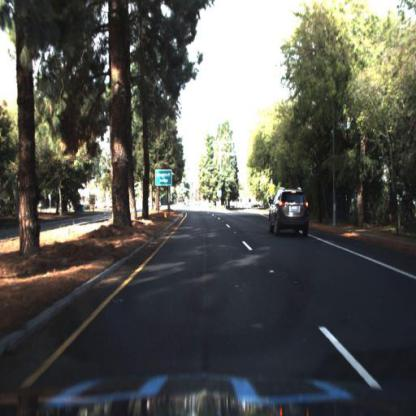car: (270, 187, 311, 240)
